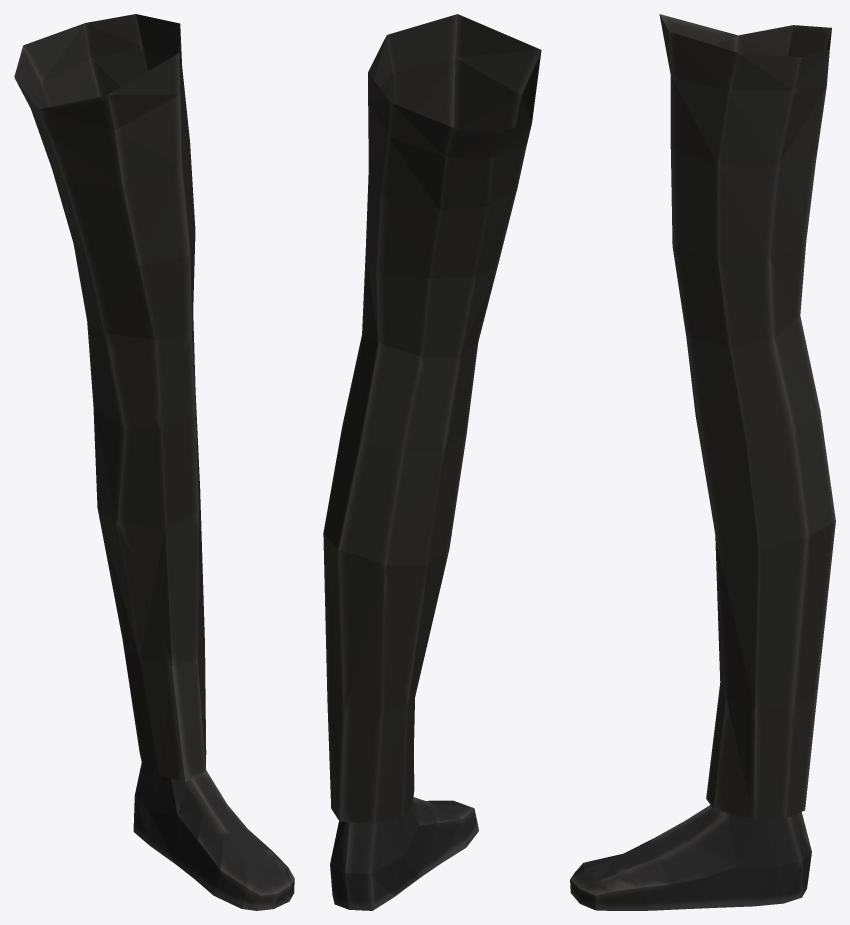
Rendered from piernaIzq.fbx.
The picture shows the model from 3 angles, left to right: view 1: azimuth 30°, elevation 25°; view 2: azimuth 150°, elevation 25°; view 3: azimuth 270°, elevation 25°; orthographic projection. The views are drawn at different scales.
Parts seen in each view (by area): view 1: Human 2.005; view 2: Human 2.005; view 3: Human 2.005.
Boxes of the visible parts, bbox=[...] form: Human 2.005: bbox=[14, 14, 294, 910]; Human 2.005: bbox=[323, 14, 541, 910]; Human 2.005: bbox=[570, 14, 835, 910].
Bounding box in the file's own units: 19.7 × 83.71 × 24.01.
